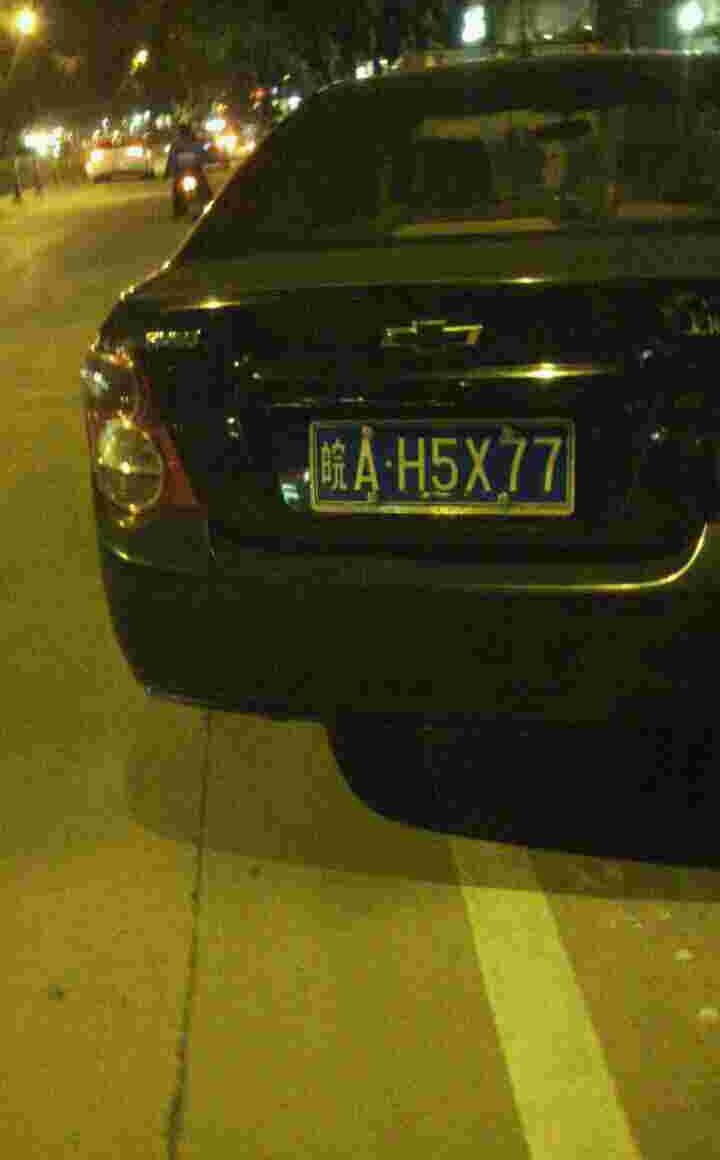license_plate: (292, 421, 585, 505)
